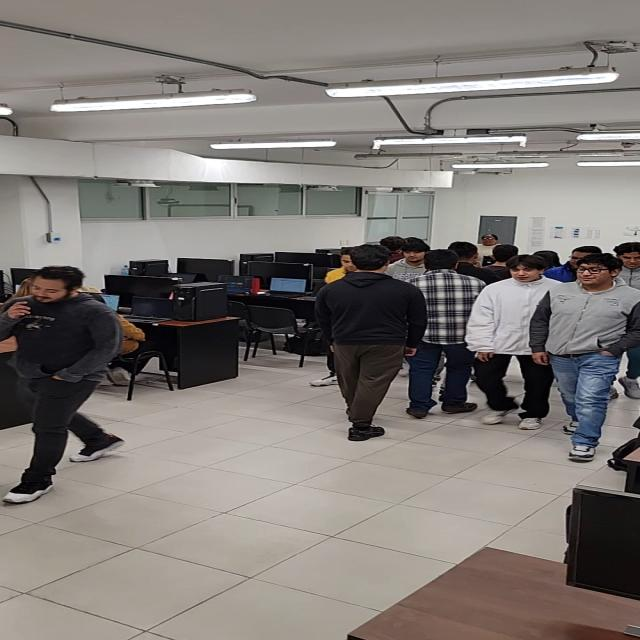Persona: (11, 264, 127, 476), (330, 243, 414, 428), (564, 256, 632, 433), (481, 254, 550, 416), (419, 252, 474, 413)
